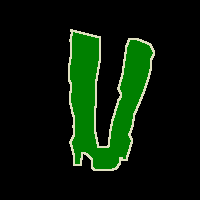shoe: (69, 30, 154, 170)
